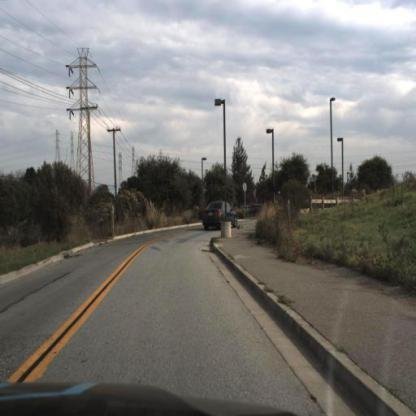car: (203, 199, 238, 230)
